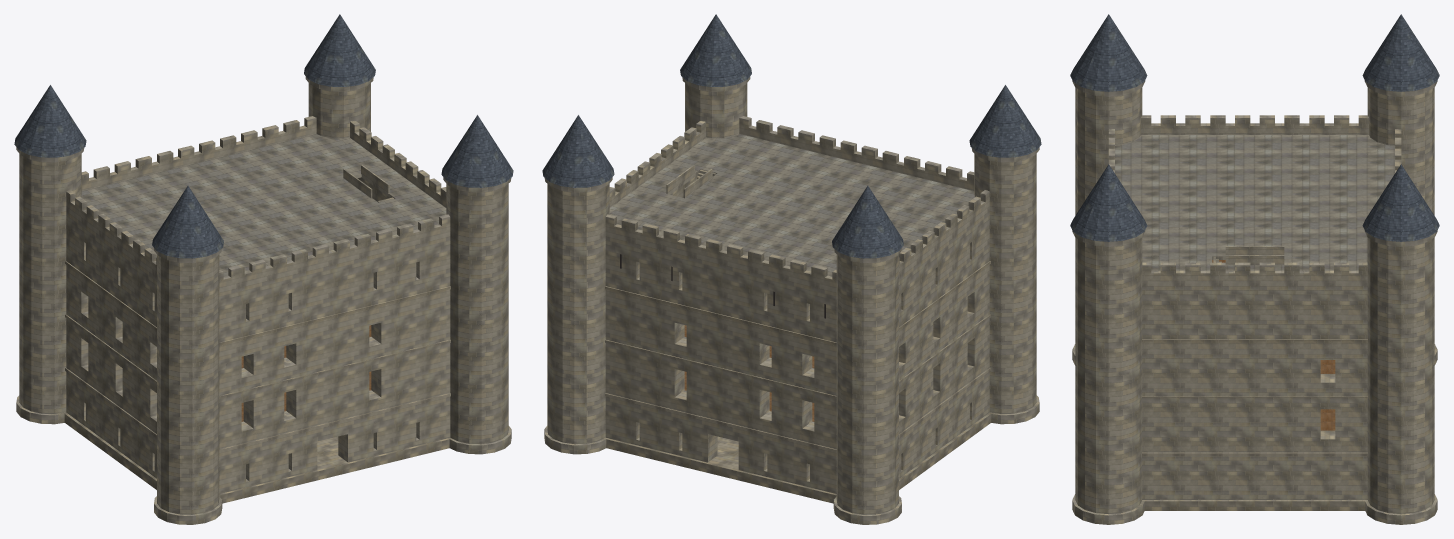
The model's file is fort-keep.zfix-v9.lod0.glb.
3 views of the same model, side by side, from view 1: azimuth 30°, elevation 25°; view 2: azimuth 150°, elevation 25°; view 3: azimuth 270°, elevation 25° (orthographic). The views are drawn at different scales.
Visible parts, largest first — view 1: fort-keep; view 2: fort-keep; view 3: fort-keep.
Part boxes in pixels (x1,y1,x2,y2): fort-keep: (14,14,513,524); fort-keep: (542,14,1041,524); fort-keep: (1070,14,1439,524).
Bounding box in the file's own units: 41.4 × 36.5 × 35.4.
Materials: 5 (4 with a texture image).
